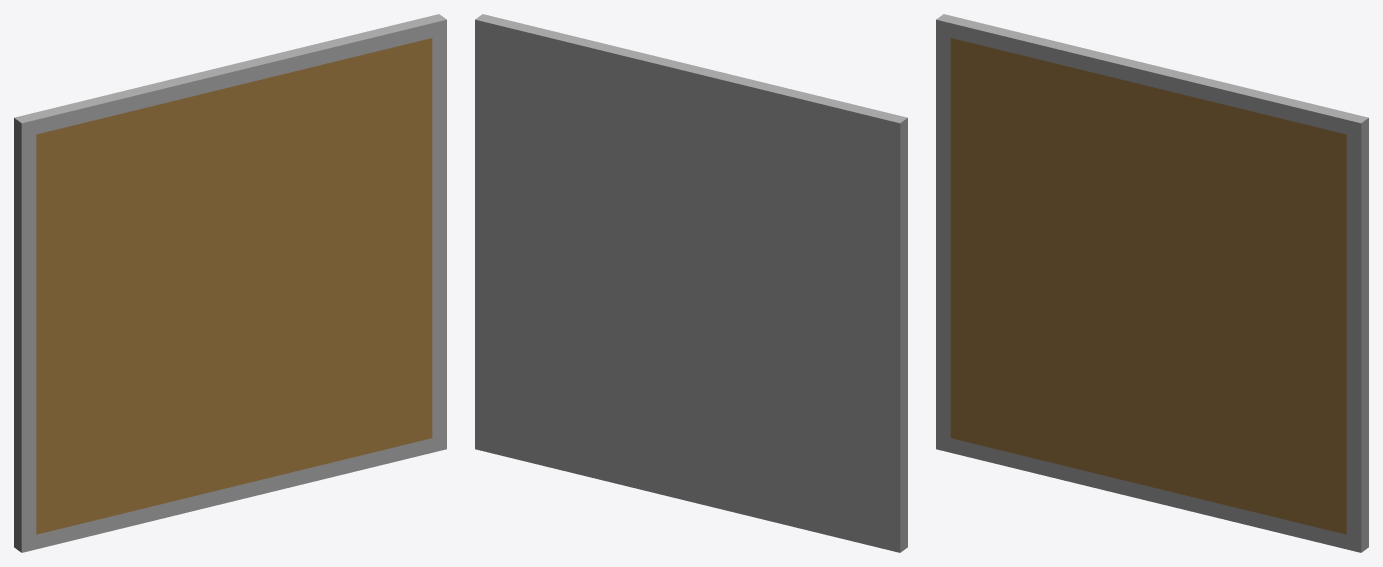
File: SO_Pinboard_02.fbx
3 renders of one model, left to right at view 1: azimuth 30°, elevation 25°; view 2: azimuth 150°, elevation 25°; view 3: azimuth 330°, elevation 25°, orthographic.
Visible parts, largest first — view 1: SO_Pinboard_02; view 2: SO_Pinboard_02; view 3: SO_Pinboard_02.
Part boxes in pixels (x1,y1,x2,y2): SO_Pinboard_02: (14, 14, 446, 552); SO_Pinboard_02: (475, 14, 907, 552); SO_Pinboard_02: (936, 14, 1368, 552).
Size of the model in its own units: 3.24 by 3.13 by 0.1018.
